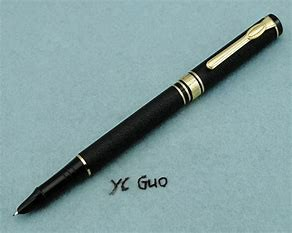pen: (20, 11, 286, 216)
